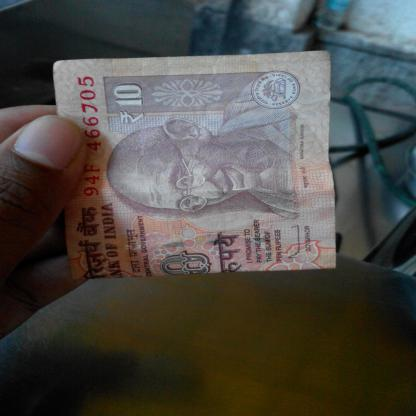Old10Front: (52, 51, 340, 281)
